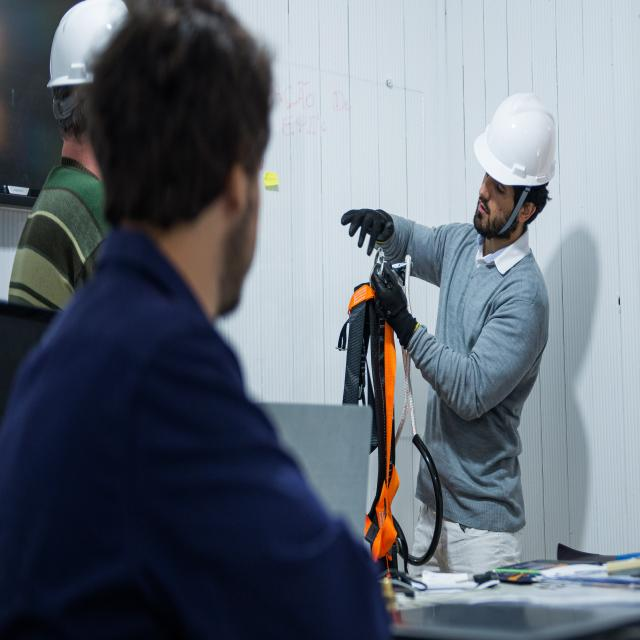capacete: (471, 90, 558, 189), (45, 0, 133, 93)
luva: (369, 262, 418, 353), (339, 206, 397, 258)
